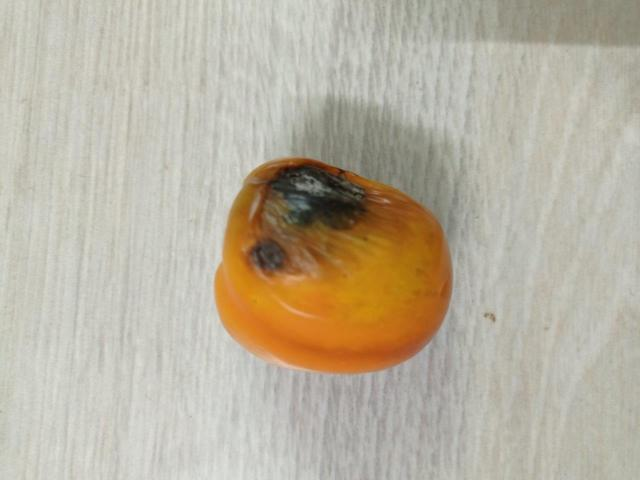defect: (210, 152, 456, 379)
